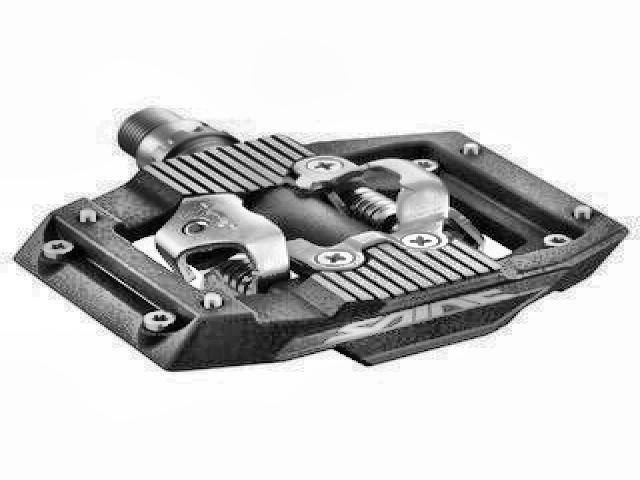pedal: (10, 105, 629, 380)
